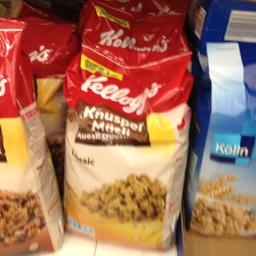cereal: (61, 68, 192, 250), (188, 46, 254, 239)
